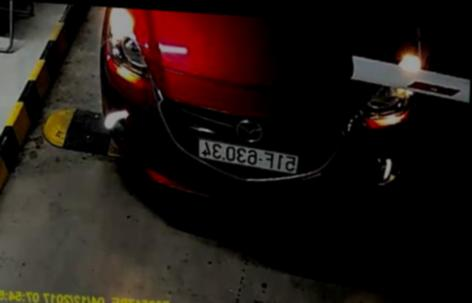License_Plate: (193, 138, 303, 175)
